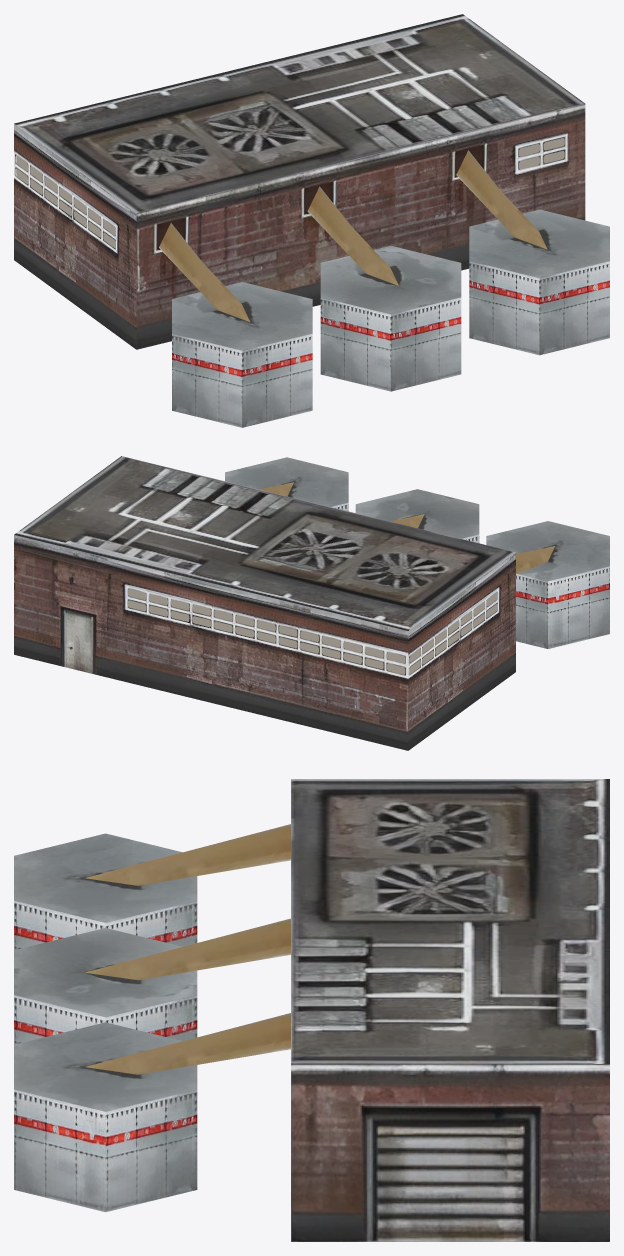
File: wasteprocessor_hdtex.glb
3 views of the same model, one above another, from view 1: azimuth 30°, elevation 25°; view 2: azimuth 150°, elevation 25°; view 3: azimuth 270°, elevation 25° (orthographic). The views are drawn at different scales.
Visible parts, largest first — view 1: WasteProcessor, LitWin_WasteProcessor; view 2: WasteProcessor, LitWin_WasteProcessor; view 3: WasteProcessor.
Boxes of the visible parts, x1,y1,x2,y2 form: WasteProcessor: [14, 14, 609, 427]; LitWin_WasteProcessor: [16, 138, 564, 248]; WasteProcessor: [14, 456, 609, 750]; LitWin_WasteProcessor: [127, 589, 497, 674]; WasteProcessor: [14, 779, 609, 1241].
Bounding box in the file's own units: 16.73 × 4.5 × 13.68.
1 material, 1 textured.
